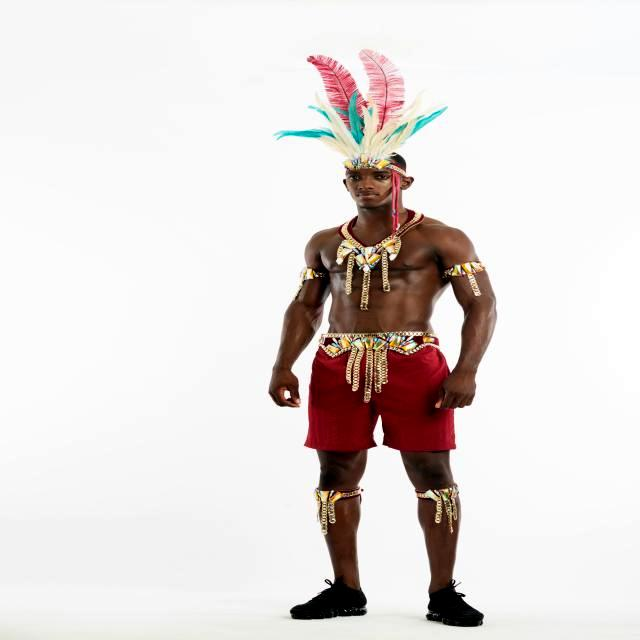no_hard_hat: (274, 50, 447, 169)
person: (269, 50, 497, 626)
